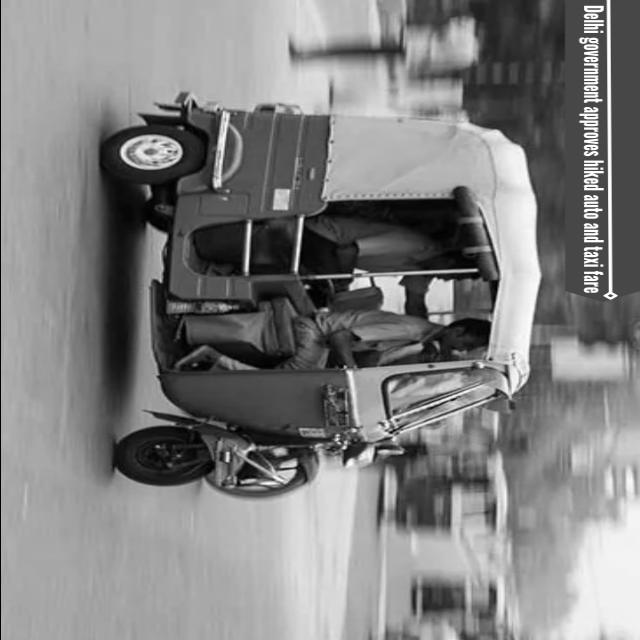Autorickshaw: (80, 119, 538, 499)
